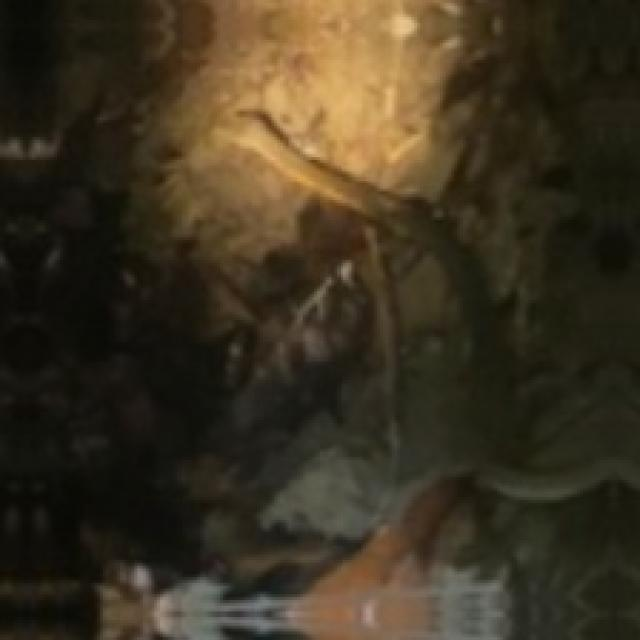king cobra: (218, 106, 496, 389)
